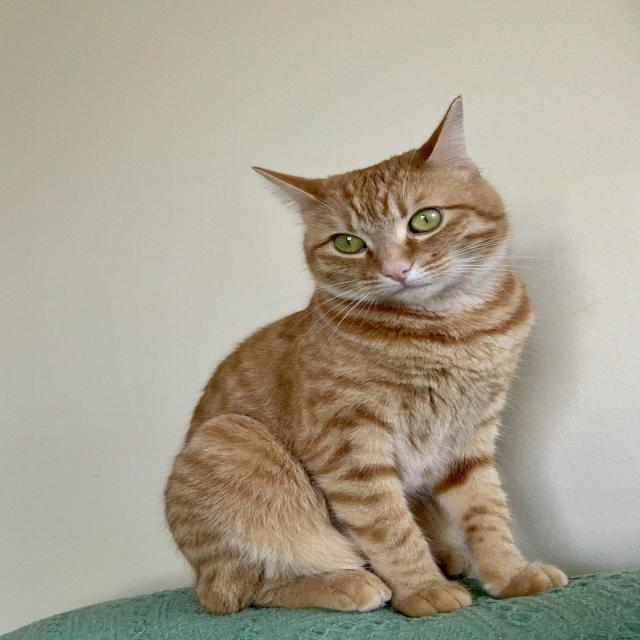sarman: (78, 84, 640, 640)
